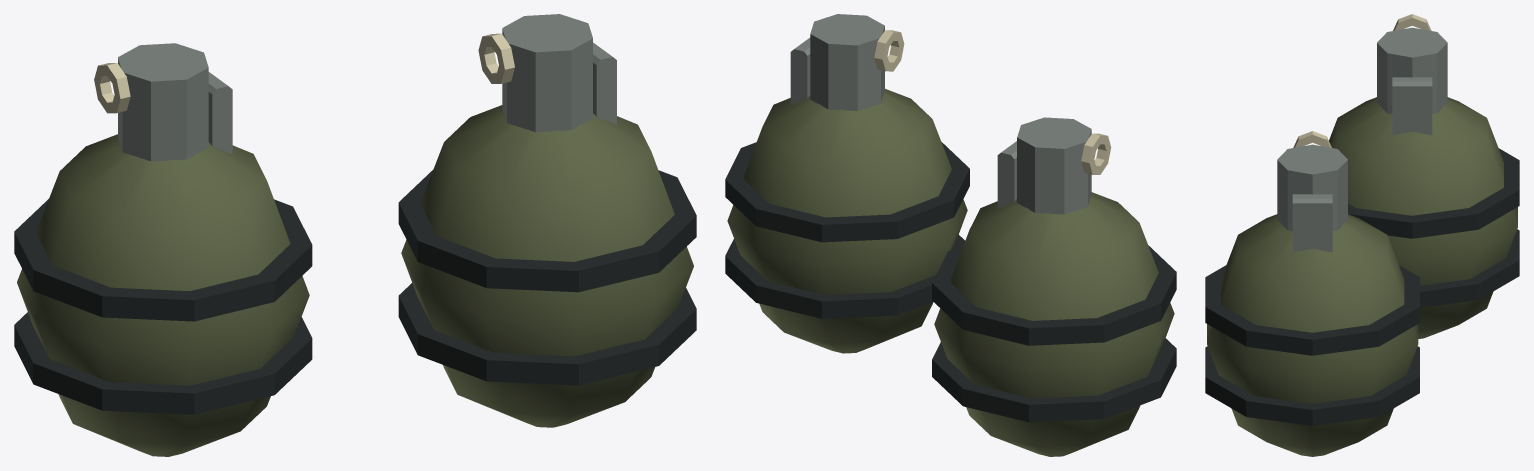
The model's file is FragGrenade.gltf.
The picture shows the model from 3 angles, left to right: view 1: azimuth 30°, elevation 25°; view 2: azimuth 150°, elevation 25°; view 3: azimuth 270°, elevation 25°; orthographic projection. The views are drawn at different scales.
Parts seen in each view (by area): view 1: FragGrenade; view 2: FragGrenade; view 3: FragGrenade.
Part boxes in pixels (x1,y1,x2,y2): FragGrenade: (14, 14, 696, 456); FragGrenade: (725, 14, 1176, 456); FragGrenade: (1205, 14, 1519, 456).
Size of the model in its own units: 0.227 by 0.1481 by 0.142.
